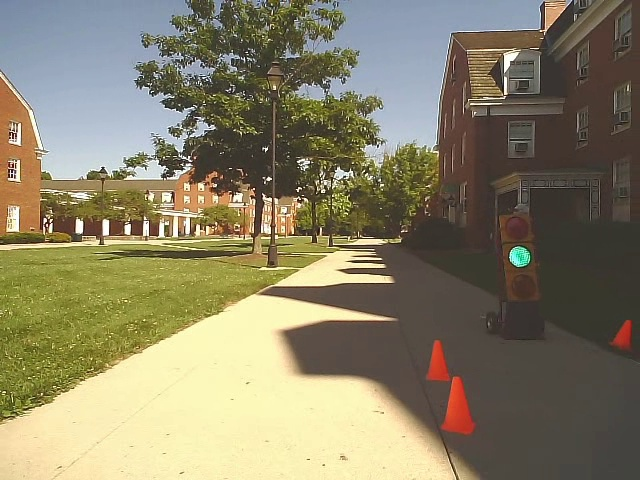green: (499, 212, 542, 302)
